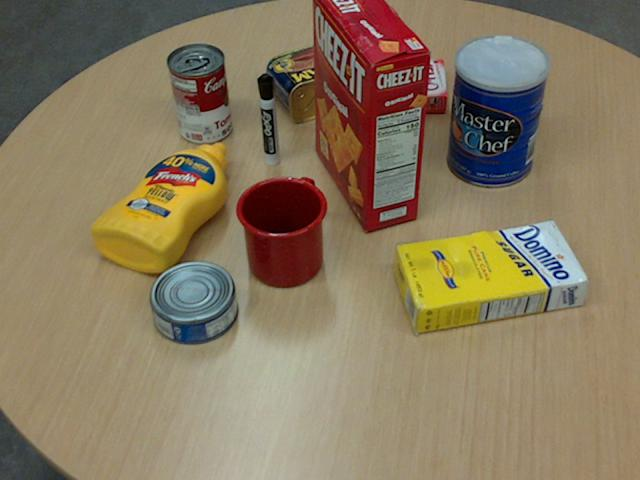cracker_box: (313, 0, 429, 228)
gelatin_box: (388, 58, 446, 112)
large_marker: (256, 73, 277, 166)
master_chef_can: (446, 35, 548, 188)
mug: (234, 176, 326, 287)
mustard_bottle: (90, 142, 226, 271)
potted_meat_can: (266, 42, 363, 121)
sugar_box: (391, 220, 589, 335)
tomato_soup_can: (167, 42, 231, 142)
tuna_fish_can: (148, 261, 236, 344)
